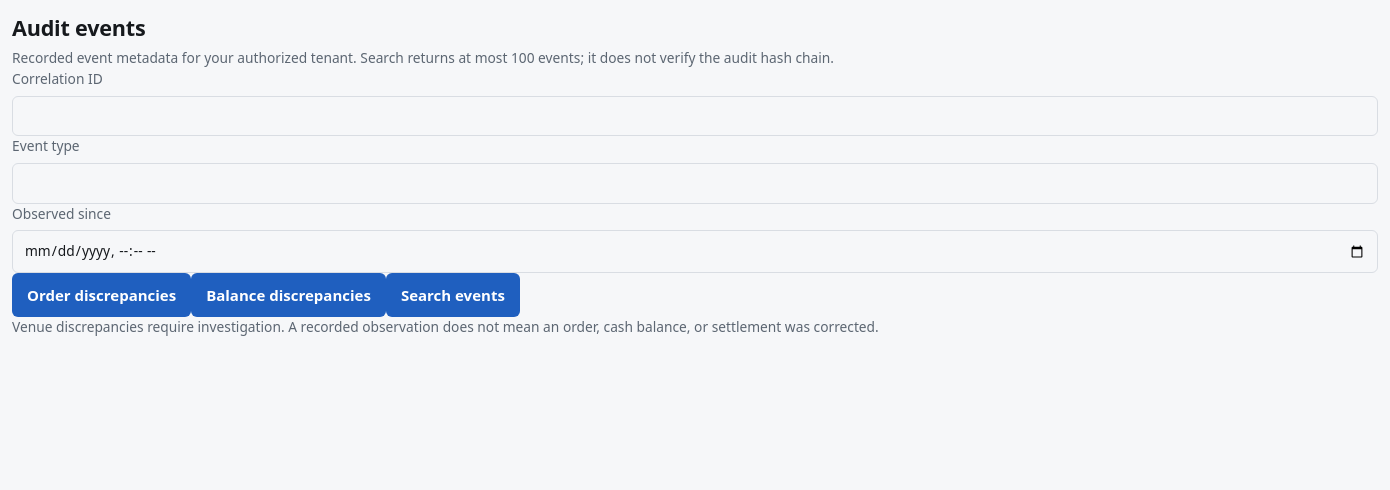
Scenario: audit search › waits for a search and distinguishes a confirmed empty result
Expected: the text "No recorded events" is not shown
In the field named "correlation": x=695, y=116 [12, 96, 1378, 136], type "test-correlation"
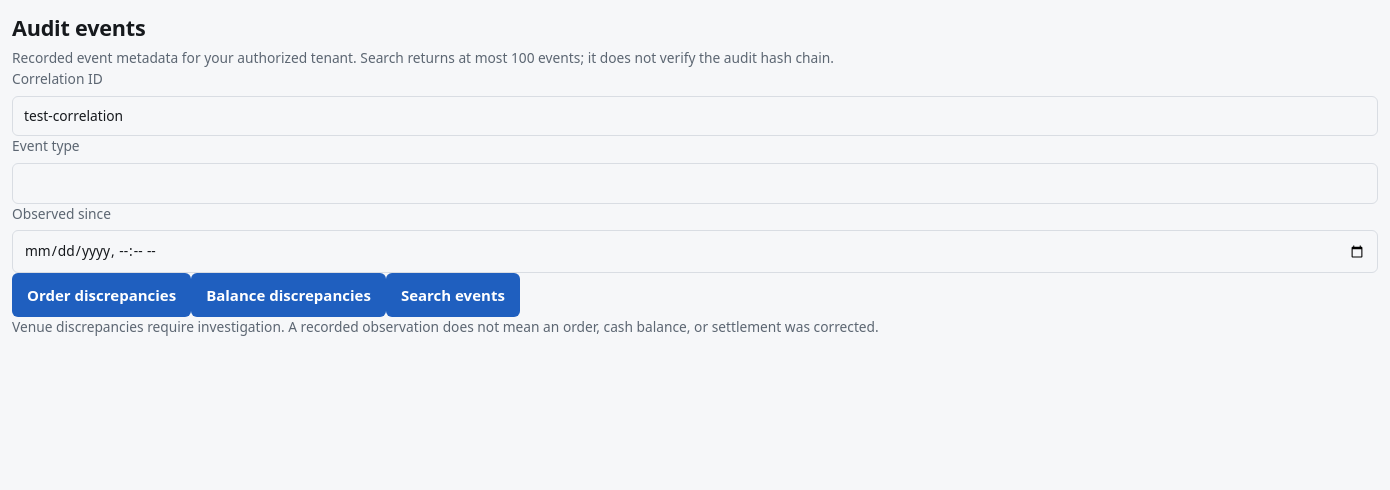
Submit the form, box [12, 69, 1378, 317]
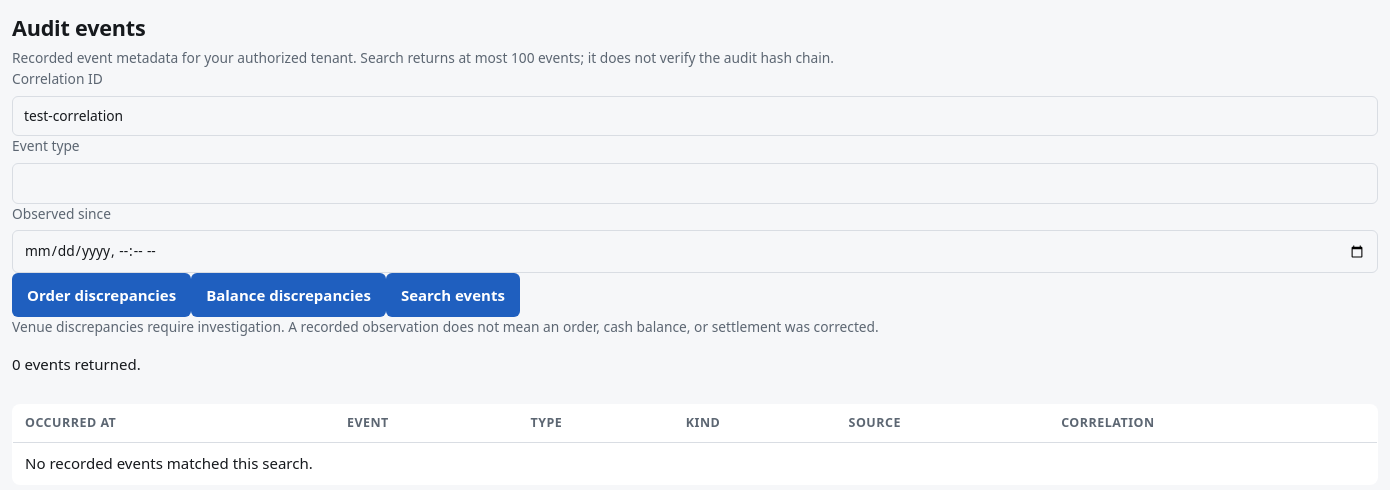
Expected: the text "No recorded events matched" is shown, [25, 453, 313, 473]
